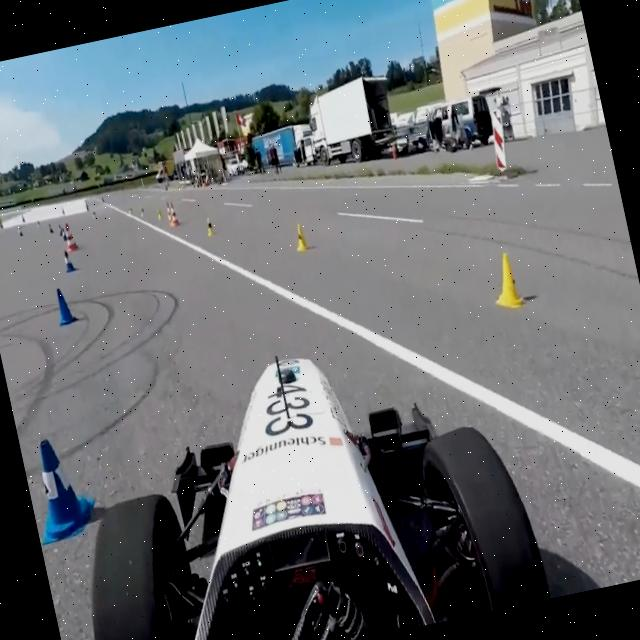blue_cone: (25, 423, 86, 546), (50, 282, 75, 326), (61, 251, 76, 276), (60, 226, 68, 243)
large_orange_cone: (63, 222, 75, 250), (168, 201, 180, 227), (66, 221, 78, 247), (164, 202, 173, 224)
yellow_cone: (484, 243, 525, 314), (290, 222, 308, 253), (202, 215, 215, 237), (156, 208, 163, 220)
